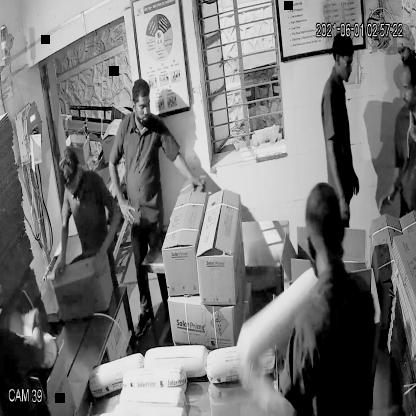goggles: (334, 48, 354, 74)
no_goggles: (396, 80, 416, 98)
